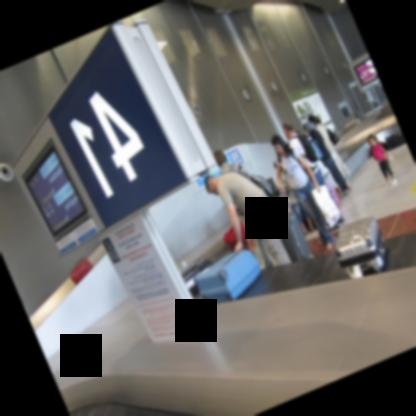backpack: (276, 147, 314, 179), (290, 130, 323, 162), (237, 171, 274, 198)
handbag: (311, 184, 341, 227), (325, 126, 340, 146)
suitcase: (195, 250, 260, 305), (335, 217, 386, 278), (274, 186, 314, 260), (344, 118, 360, 131)
